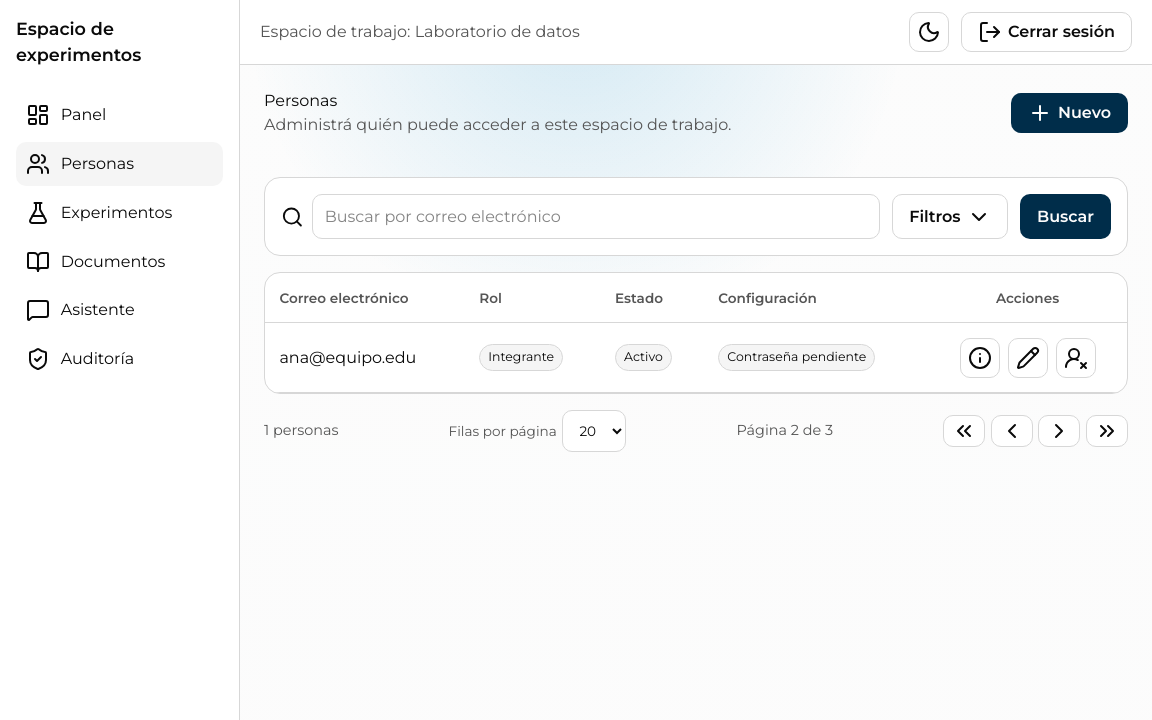
Test: users directory › uses an ordered, spaced role-edit footer and protects role updates
Click the button named "Editar rol de ana@equipo.edu".
click(1028, 358)  # box [1008,338,1048,378]
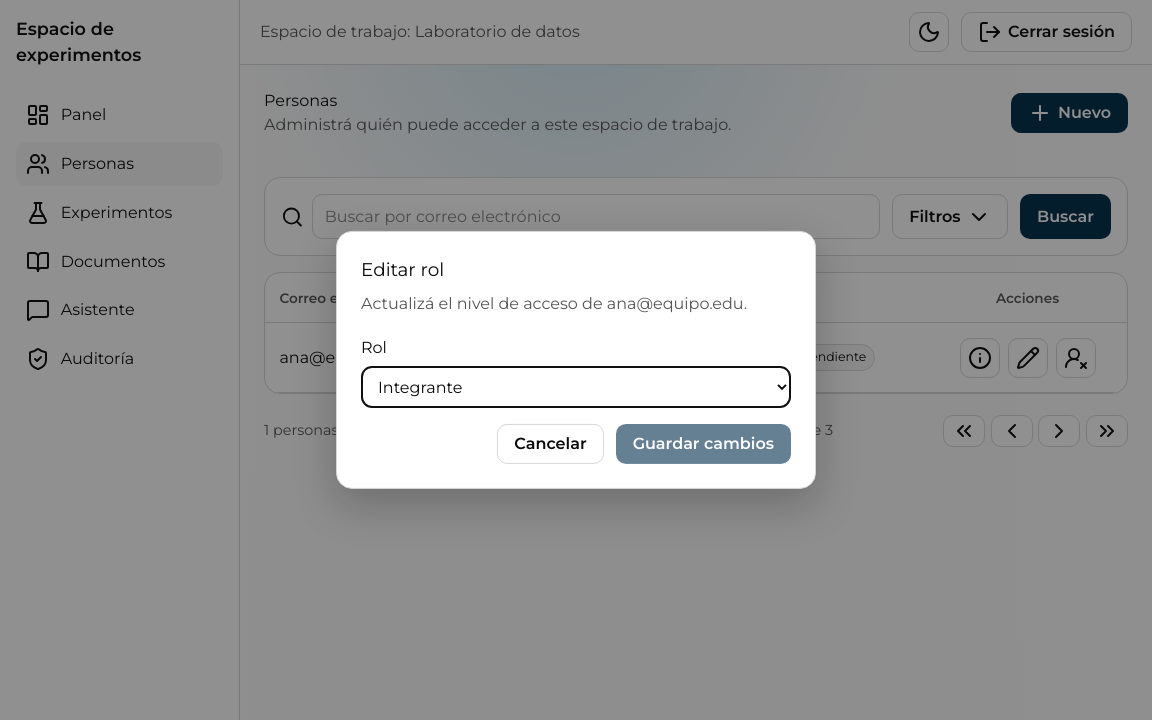
Click the button "Cancelar".
click(550, 444)  # box [497,424,604,464]
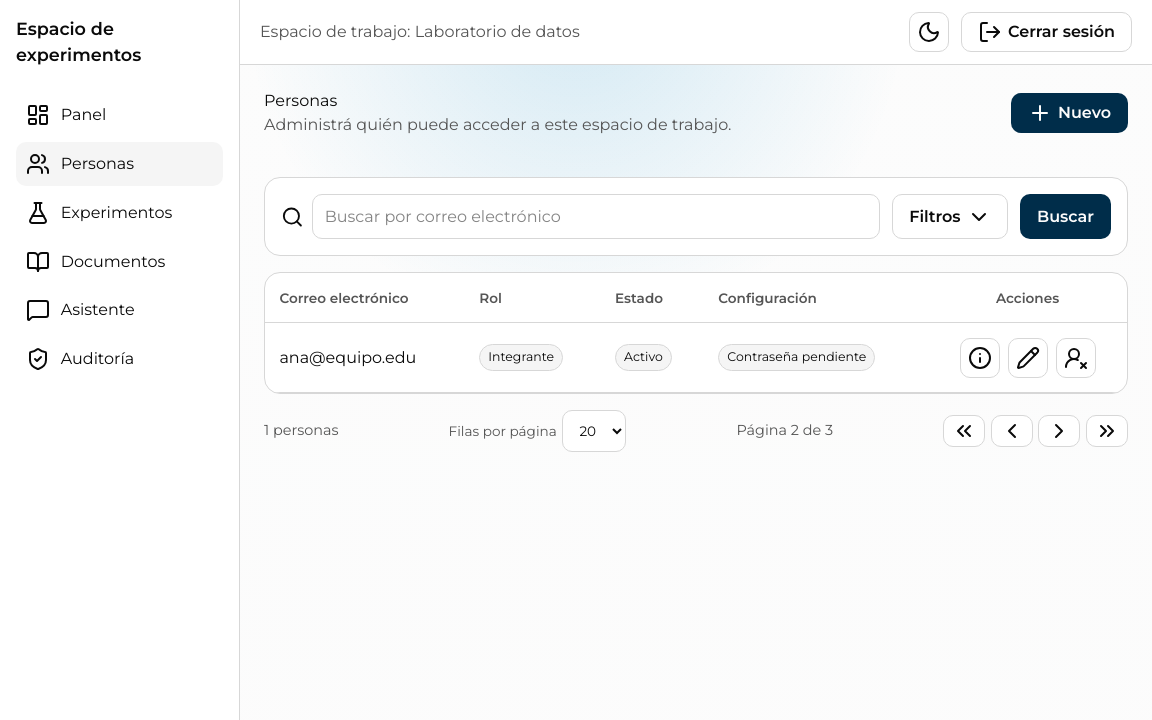
Result: the heading "Editar rol" is gone
Click the button named "Editar rol de ana@equipo.edu".
click(1028, 358)  # box [1008,338,1048,378]
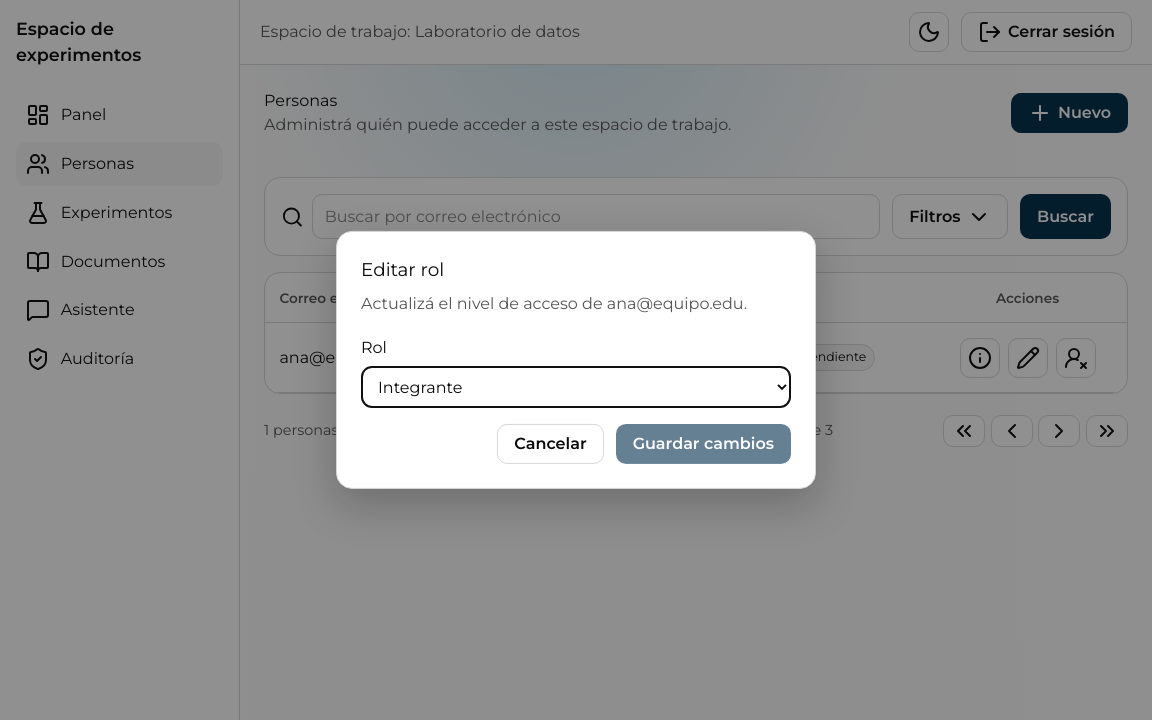
Select "Consulta" in the dropdown labelled "Rol" at (576, 387), box [361,366,791,408]
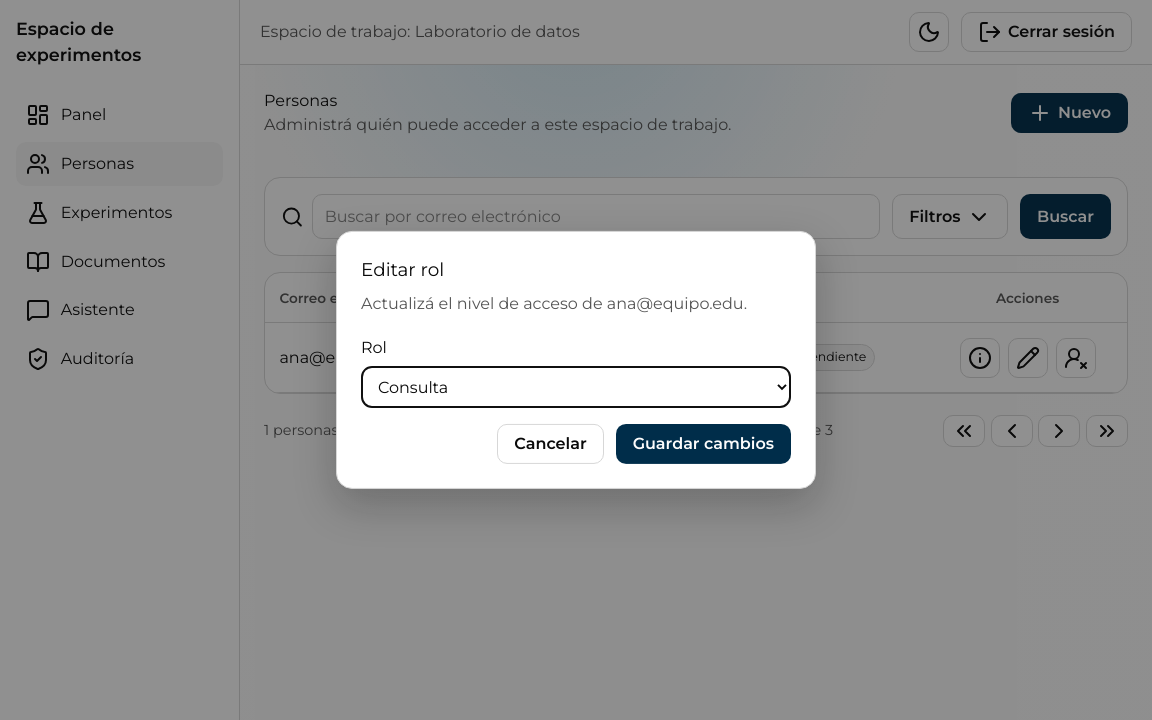
Click the button "Guardar cambios".
click(703, 444)  # box [616,424,791,464]
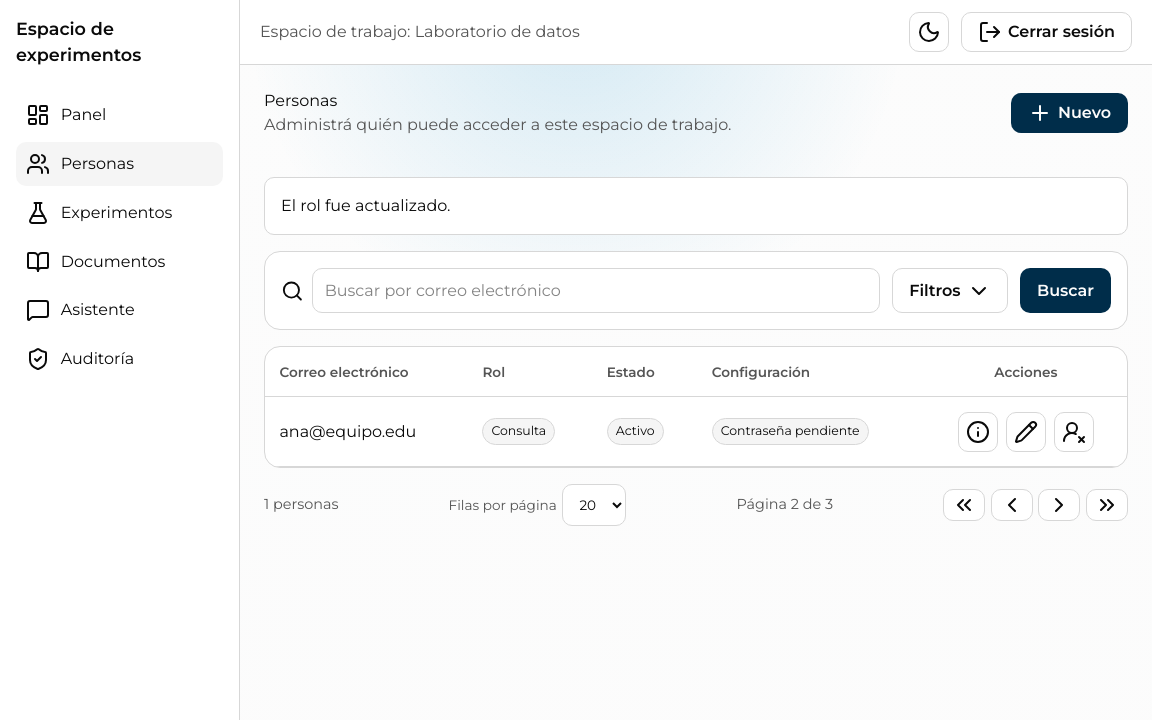
Result: the message reads "El rol fue actualizado." at [281,196,450,215]
